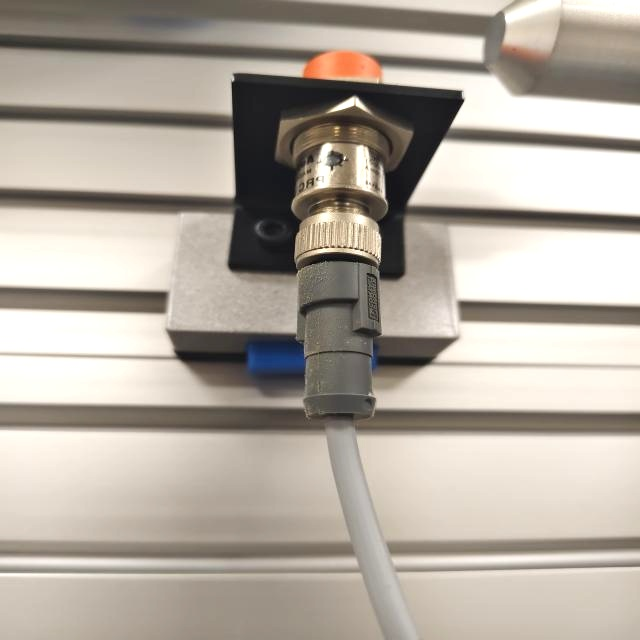inductive sensor: (150, 38, 481, 424)
